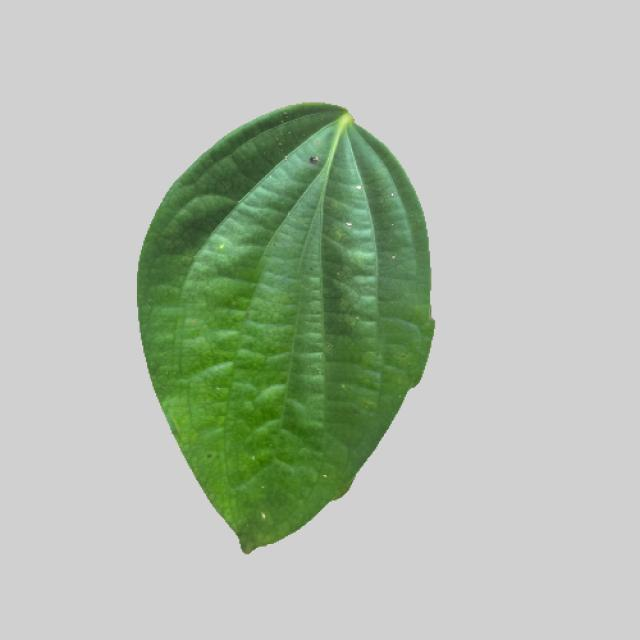healthy: (130, 96, 441, 560)
